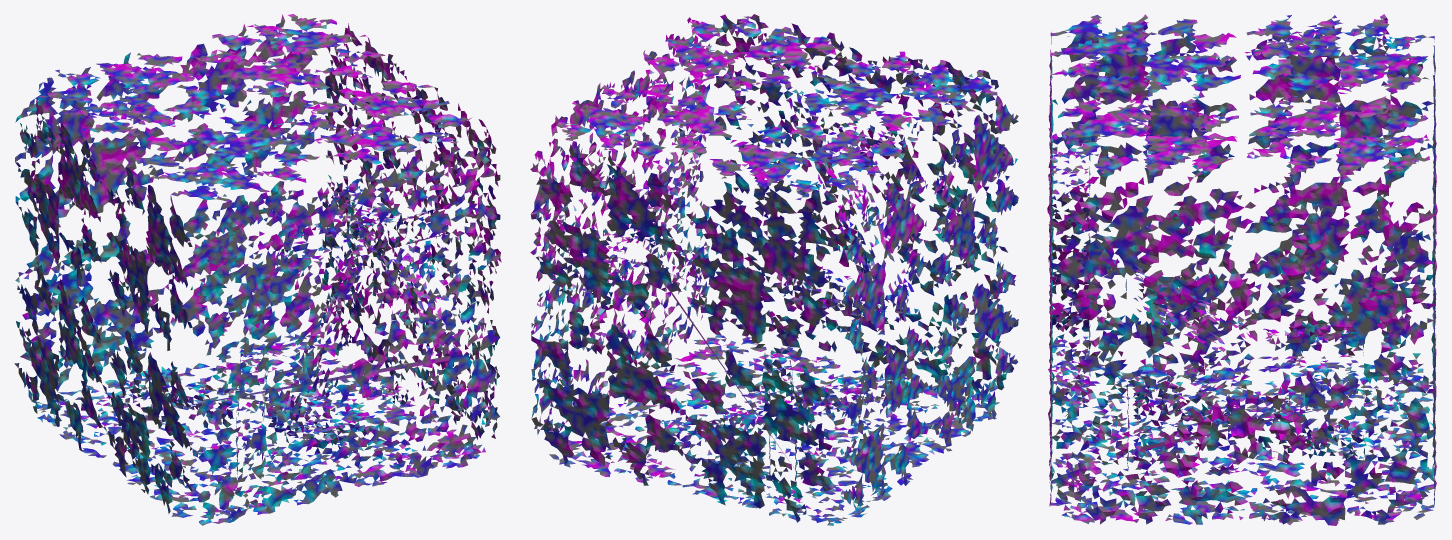
The picture shows the model from 3 angles, left to right: view 1: azimuth 30°, elevation 25°; view 2: azimuth 150°, elevation 25°; view 3: azimuth 270°, elevation 25°; orthographic projection. The views are drawn at different scales.
Bounding box in the file's own units: 1.15 × 1.14 × 1.14.
